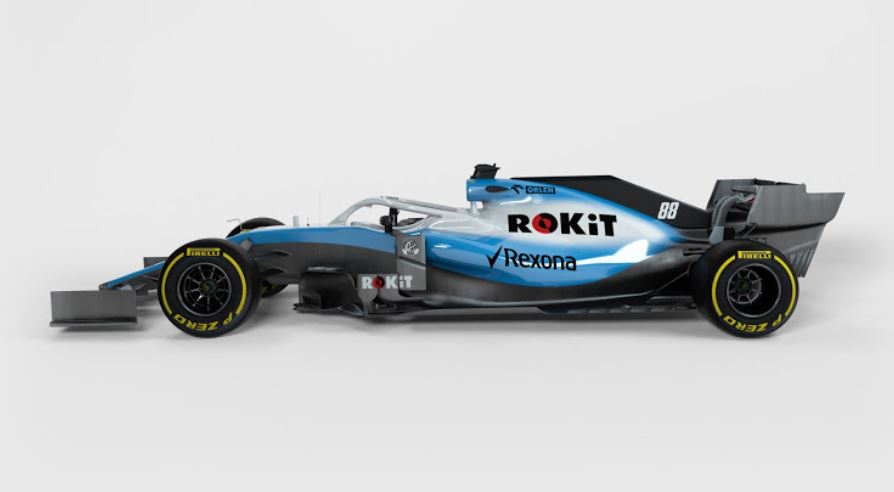F1 Car: (38, 155, 849, 348)
